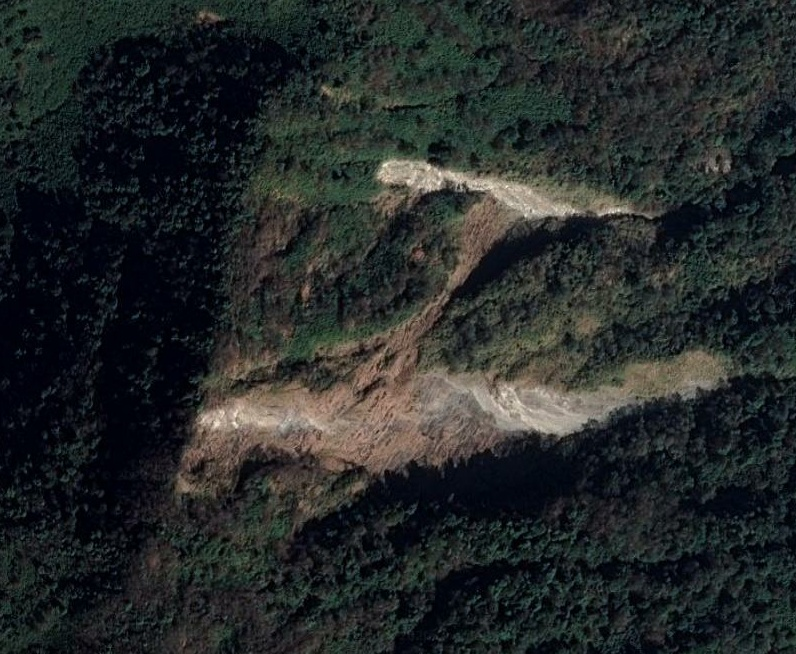slope: (163, 340, 726, 512), (369, 155, 665, 294)
